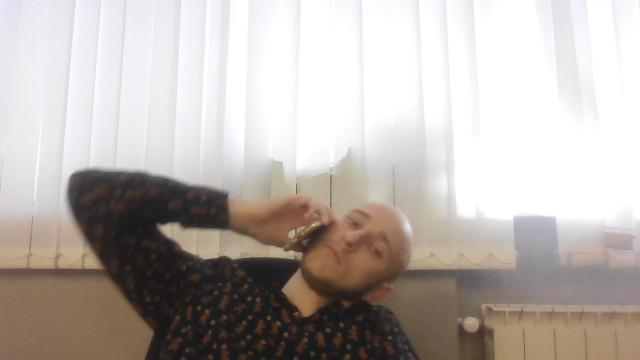PhoneUse: (284, 196, 332, 252)
